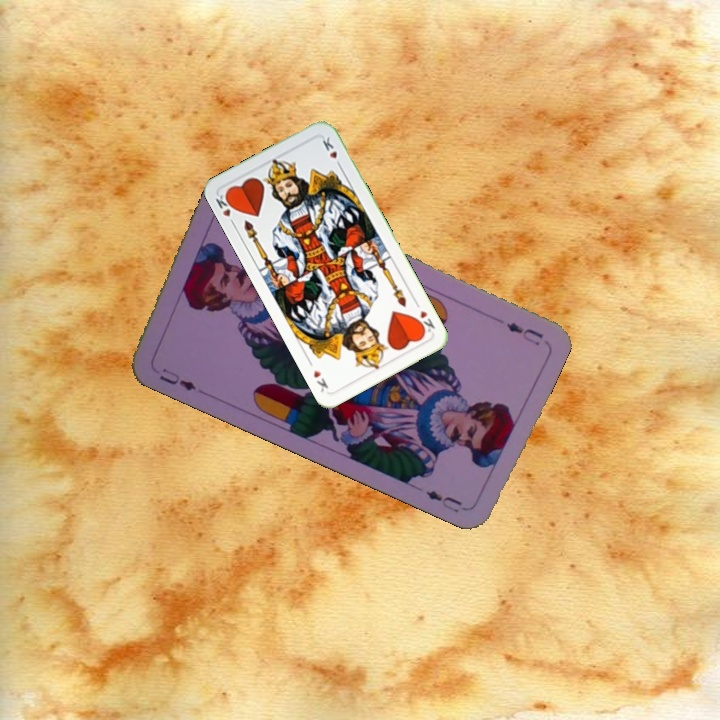EU: (155, 363, 199, 394), (501, 318, 546, 348)
HK: (212, 189, 239, 229), (411, 298, 438, 337)
